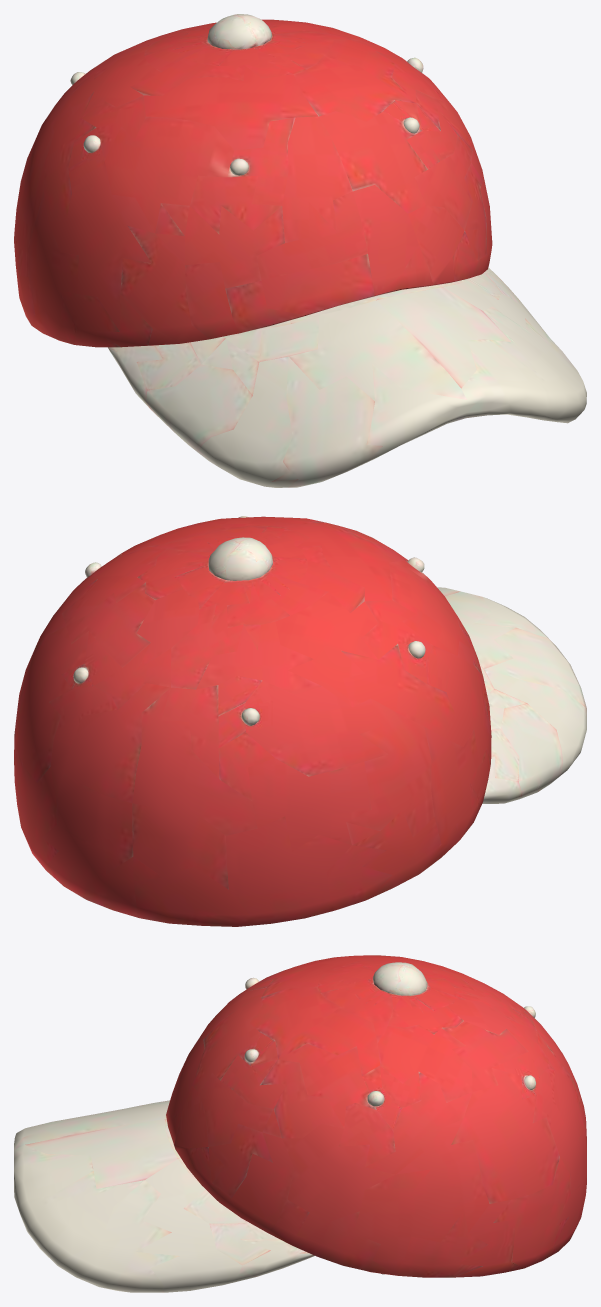
Rendered from hat_cap.glb.
3 renders of one model, top to bottom at view 1: azimuth 30°, elevation 25°; view 2: azimuth 150°, elevation 25°; view 3: azimuth 270°, elevation 25°, orthographic. The views are drawn at different scales.
Bounding box in the file's own units: 0.7066 × 0.5013 × 1.
Materials: 1 (1 with a texture image).
